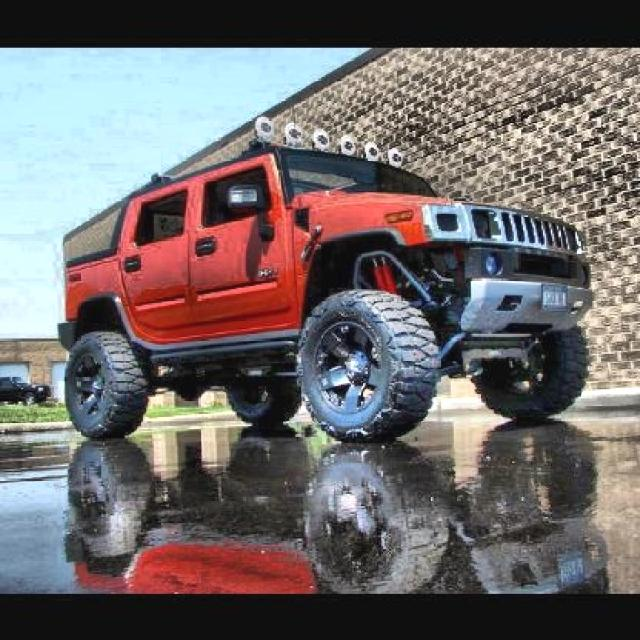red: (62, 139, 636, 420)
